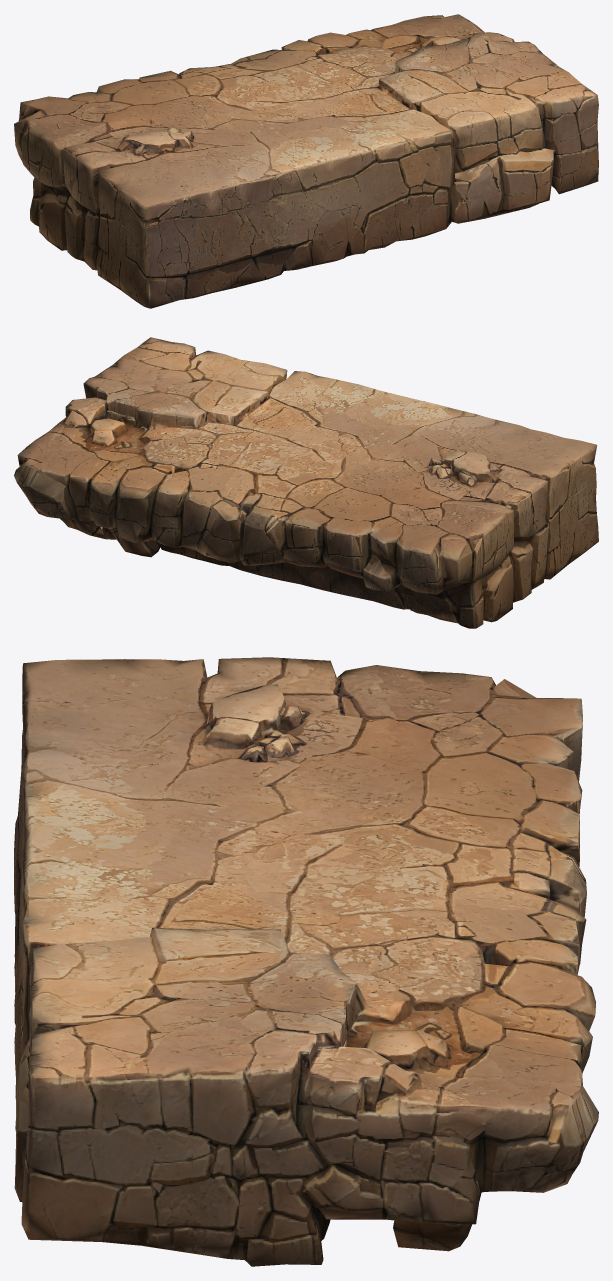
The model's file is EX_Env_CaveOverhang.fbx.
3 views of the same model, one above another, from view 1: azimuth 30°, elevation 25°; view 2: azimuth 150°, elevation 25°; view 3: azimuth 270°, elevation 25° (orthographic). The views are drawn at different scales.
Parts seen in each view (by area): view 1: texture_mapping; view 2: texture_mapping; view 3: texture_mapping.
Part boxes in pixels (box(x1,y1,x2,y2)): texture_mapping: box(14, 14, 598, 308); texture_mapping: box(14, 337, 598, 628); texture_mapping: box(14, 657, 598, 1266).
Bounding box in the file's own units: 1 × 0.5879 × 0.2549.
Materials: 1 (1 with a texture image).
